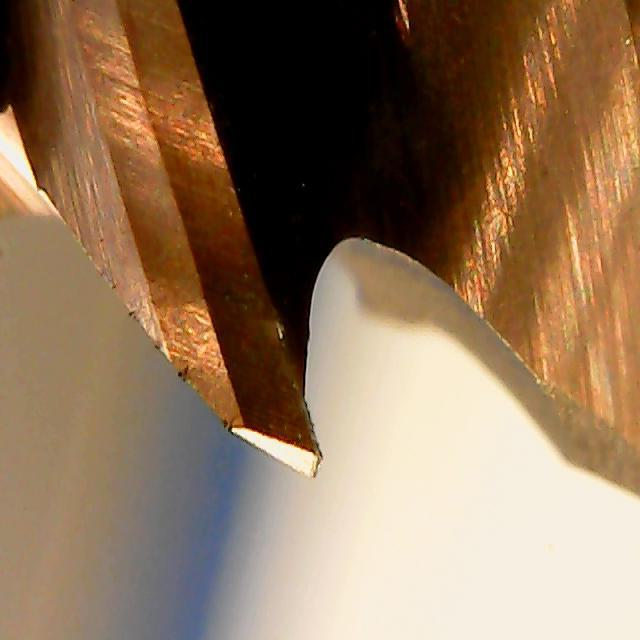Tool-wear-class-1: (158, 276, 328, 490)
